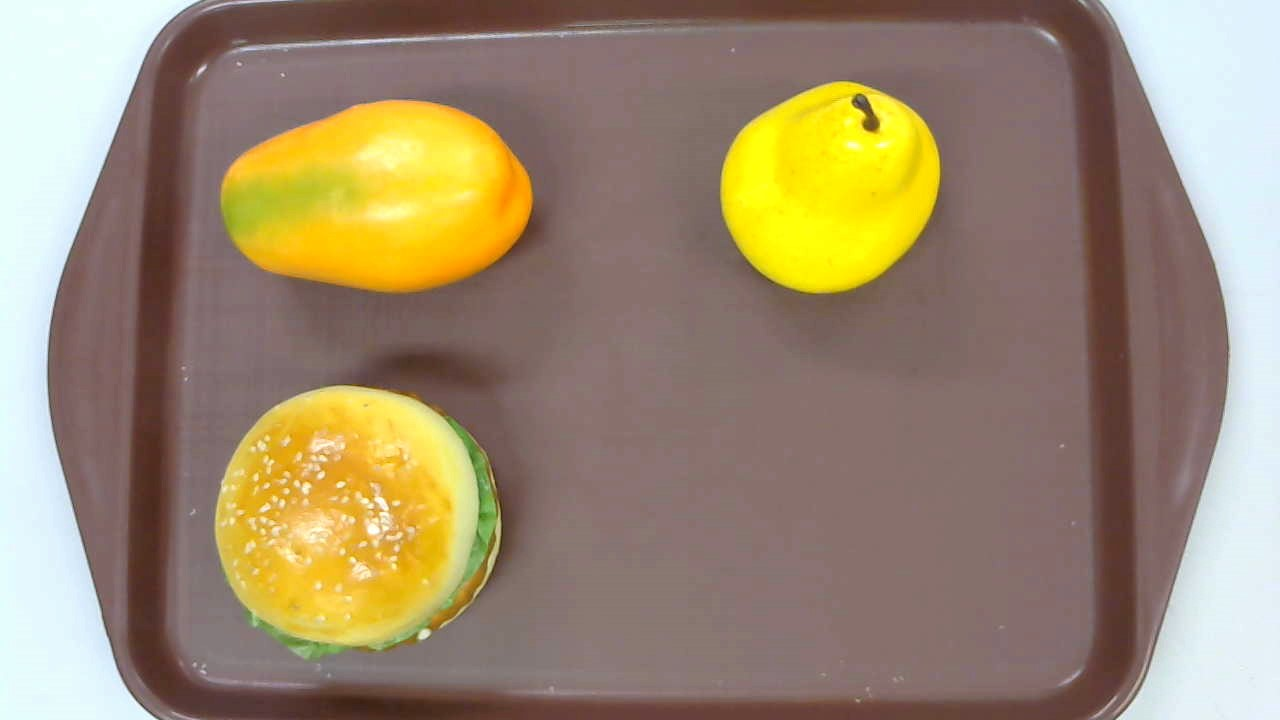hamburger: (215, 386, 502, 662)
papya: (221, 99, 533, 296)
yellow pear: (720, 81, 941, 293)
